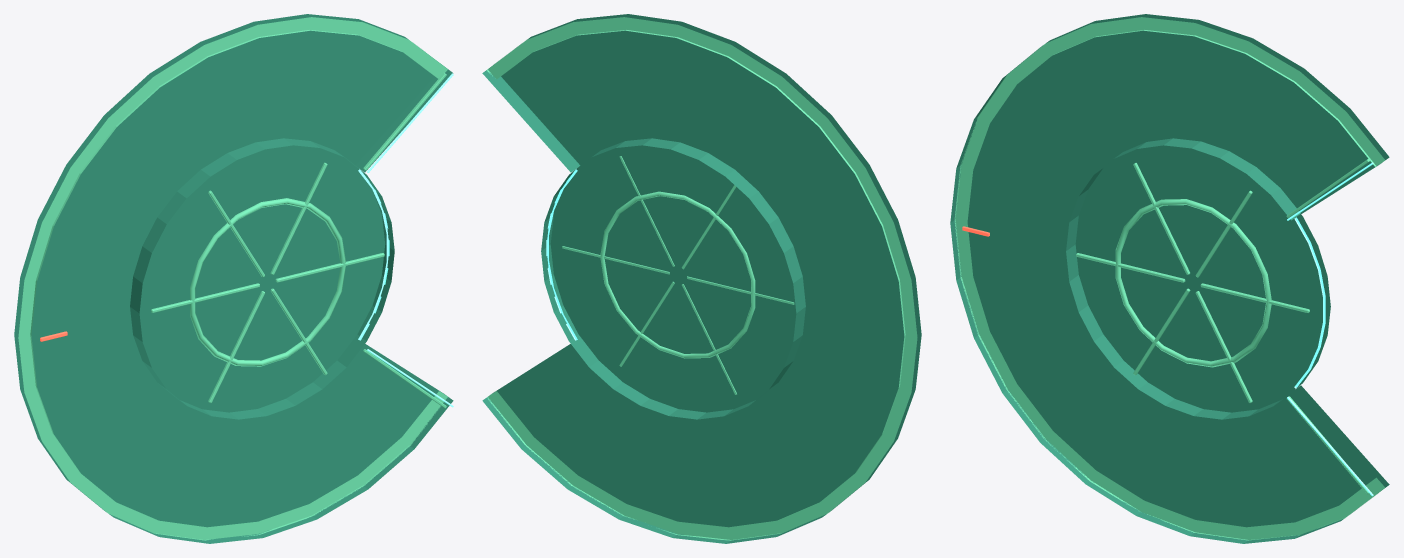
The model's file is bio-panel-fun0-low.glb.
3 views of the same model, side by side, from view 1: azimuth 30°, elevation 25°; view 2: azimuth 150°, elevation 25°; view 3: azimuth 330°, elevation 25° (orthographic).
Parts seen in each view (by area): view 1: RENDER_PANEL_SHELL, RENDER_PANEL_FRAME, RENDER_PANEL_SIGNAL; view 2: RENDER_PANEL_SHELL, RENDER_PANEL_FRAME, RENDER_PANEL_SIGNAL; view 3: RENDER_PANEL_SHELL, RENDER_PANEL_FRAME, RENDER_PANEL_SIGNAL.
Part boxes in pixels (x1=…): RENDER_PANEL_SHELL: x1=14, y1=14, x2=453, y2=543; RENDER_PANEL_FRAME: x1=18, y1=17, x2=447, y2=540; RENDER_PANEL_SIGNAL: x1=358, y1=73, x2=453, y2=407; RENDER_PANEL_SHELL: x1=482, y1=14, x2=921, y2=543; RENDER_PANEL_FRAME: x1=486, y1=17, x2=917, y2=540; RENDER_PANEL_SIGNAL: x1=546, y1=169, x2=577, y2=340; RENDER_PANEL_SHELL: x1=950, y1=14, x2=1389, y2=543; RENDER_PANEL_FRAME: x1=954, y1=17, x2=1385, y2=540; RENDER_PANEL_SIGNAL: x1=1287, y1=162, x2=1373, y2=496.
Size of what is drawn, in the model's own units: 36.2 by 40.99 by 1.95.
